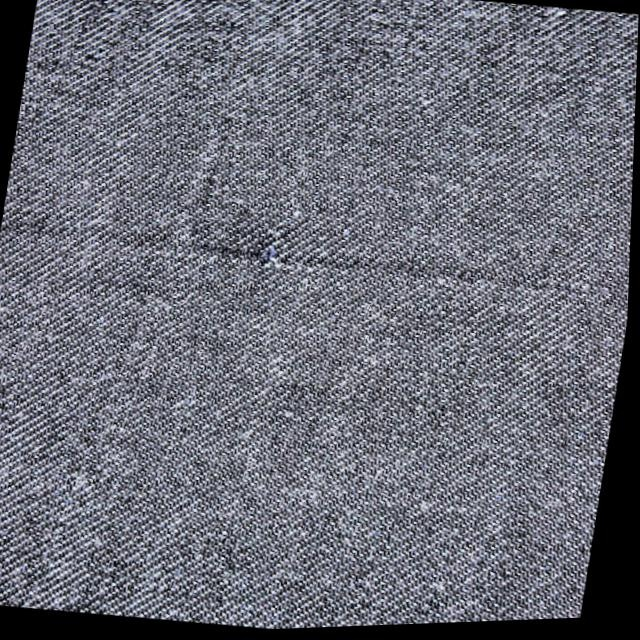Hole: (0, 182, 611, 355), (3, 196, 613, 313)
